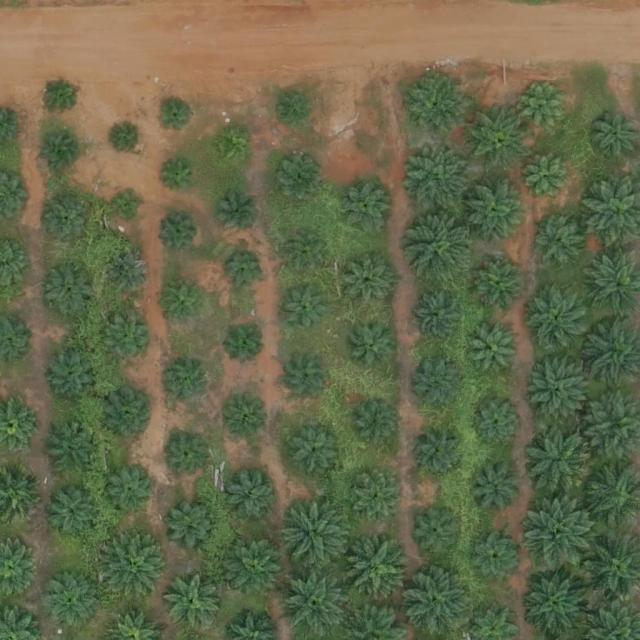Healthy: (405, 146, 476, 217), (409, 213, 480, 284), (522, 498, 593, 569), (524, 428, 594, 499), (402, 565, 472, 636), (340, 536, 410, 607), (279, 569, 349, 640), (522, 568, 592, 638), (279, 499, 349, 569), (467, 107, 530, 170), (225, 536, 288, 599), (406, 75, 468, 138), (467, 182, 530, 244), (530, 357, 592, 420), (105, 534, 167, 597), (39, 570, 101, 633), (528, 286, 590, 348), (46, 350, 101, 405), (45, 424, 100, 479), (291, 425, 346, 480), (351, 470, 406, 525), (222, 469, 277, 524), (163, 498, 218, 553), (166, 577, 221, 632), (471, 528, 525, 583), (47, 486, 101, 541), (343, 183, 390, 231), (476, 262, 523, 310), (472, 327, 519, 375), (539, 220, 586, 268), (418, 292, 465, 339), (417, 363, 464, 410), (414, 510, 461, 557), (107, 471, 154, 518)
Small: (43, 263, 98, 318), (520, 81, 575, 136), (468, 463, 523, 518), (472, 397, 527, 452), (415, 425, 470, 480), (103, 388, 158, 443), (346, 258, 393, 306), (45, 199, 92, 246), (524, 154, 571, 201), (285, 227, 332, 274), (275, 158, 322, 205), (166, 434, 213, 481), (159, 362, 206, 409), (284, 356, 331, 403), (350, 401, 397, 448), (351, 321, 398, 368), (285, 284, 332, 331), (102, 316, 149, 363), (107, 252, 154, 299), (214, 193, 261, 240), (223, 249, 270, 296), (222, 321, 269, 368), (224, 398, 271, 445), (270, 90, 310, 130), (42, 132, 81, 172), (159, 158, 198, 198), (165, 282, 204, 322), (213, 129, 252, 169), (41, 77, 80, 116), (157, 96, 196, 135), (159, 213, 198, 252), (113, 124, 144, 156), (113, 190, 144, 222)
